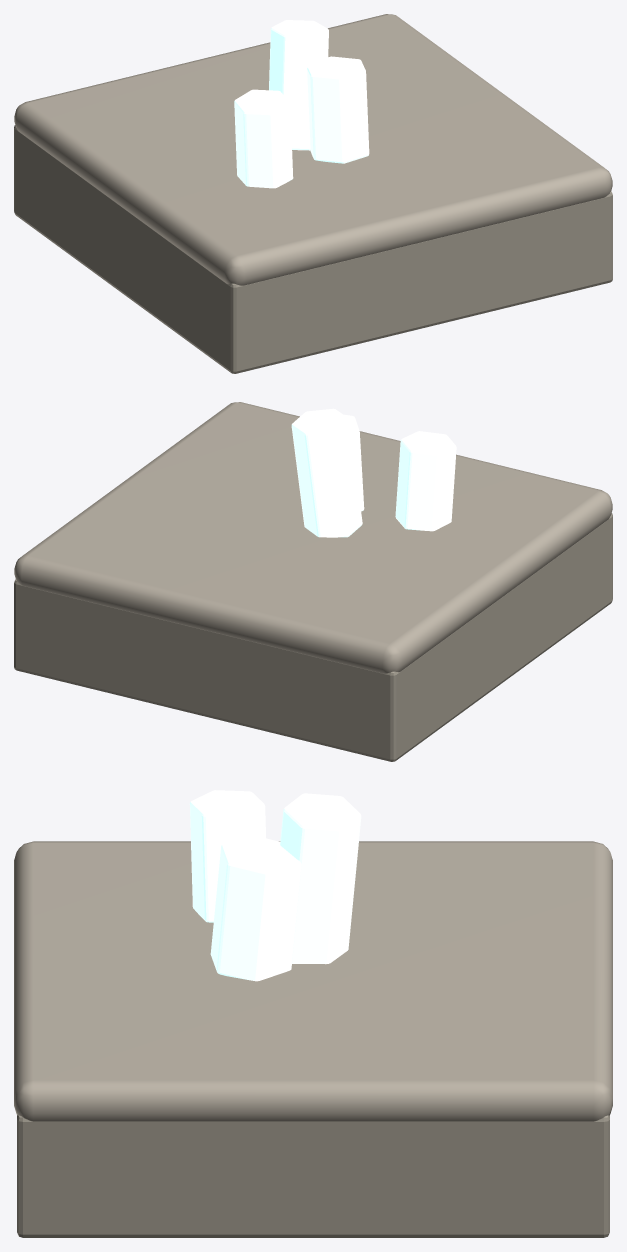
Rendered from tile_stone_crystal.glb.
The picture shows the model from 3 angles, top to bottom: view 1: azimuth 30°, elevation 25°; view 2: azimuth 150°, elevation 25°; view 3: azimuth 270°, elevation 25°; orthographic projection. The views are drawn at different scales.
Parts seen in each view (by area): view 1: scr_cap, scr_body, scr_c0, scr_c1, scr_c2; view 2: scr_cap, scr_body, scr_c2, scr_c1, scr_c0; view 3: scr_cap, scr_body, scr_c0, scr_c2, scr_c1.
Boxes of the visible parts, left/top/right/bottom form: scr_cap: left=14, top=14, right=612, bottom=285; scr_body: left=14, top=125, right=612, bottom=373; scr_c0: left=307, top=56, right=369, bottom=163; scr_c1: left=234, top=89, right=293, bottom=188; scr_c2: left=269, top=20, right=328, bottom=150; scr_cap: left=14, top=402, right=612, bottom=673; scr_body: left=14, top=513, right=612, bottom=761; scr_c2: left=291, top=408, right=362, bottom=537; scr_c1: left=395, top=431, right=456, bottom=531; scr_c0: left=344, top=414, right=364, bottom=511; scr_cap: left=14, top=841, right=612, bottom=1121; scr_body: left=17, top=1115, right=609, bottom=1237; scr_c0: left=210, top=836, right=301, bottom=981; scr_c2: left=280, top=793, right=361, bottom=964; scr_c1: left=189, top=790, right=265, bottom=922.
Bounding box in the file's own units: 2.02 × 1.12 × 2.02.
